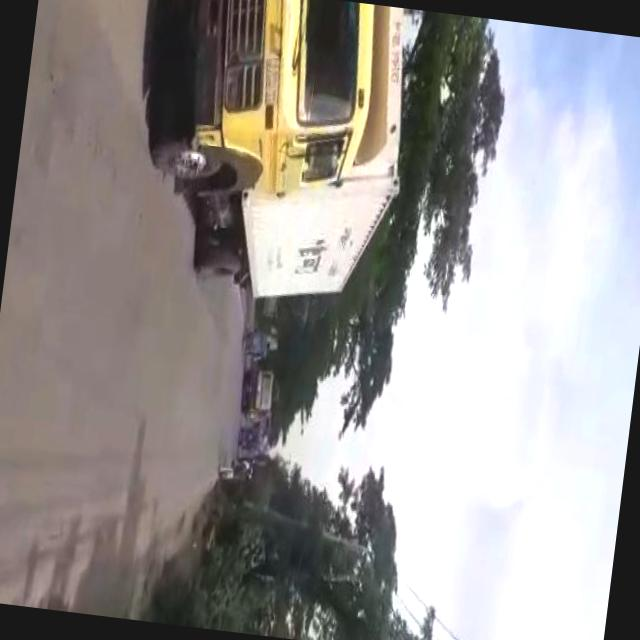motorcycle: (243, 330, 268, 362)
truck: (123, 0, 413, 317), (242, 370, 276, 418)
